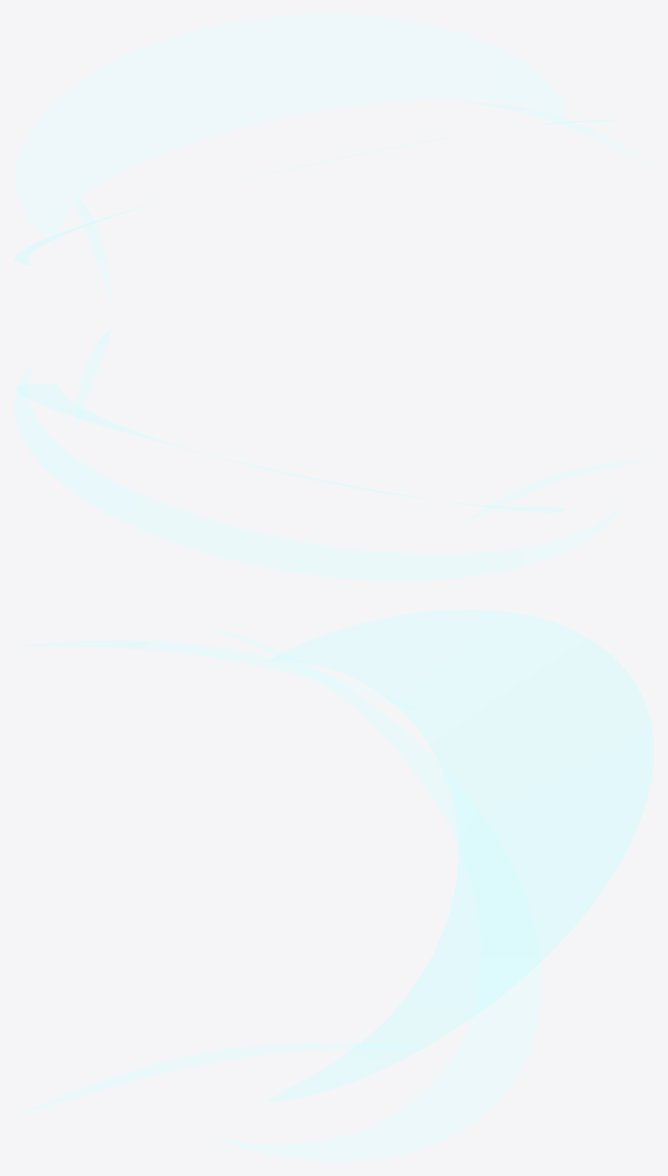
Rendered from qi-palm-r3.glb.
The picture shows the model from 3 angles, top to bottom: view 1: azimuth 30°, elevation 25°; view 2: azimuth 150°, elevation 25°; view 3: azimuth 270°, elevation 25°; orthographic projection. The views are drawn at different scales.
Visible parts, largest first — view 1: qi-palm-r3; view 2: qi-palm-r3; view 3: qi-palm-r3.
Part boxes in pixels (left/top/right/bottom): qi-palm-r3: left=14, top=14, right=650, bottom=297; qi-palm-r3: left=14, top=329, right=647, bottom=580; qi-palm-r3: left=17, top=609, right=653, bottom=1161.
Size of the model in its own units: 1.63 by 0.3449 by 0.8615.
